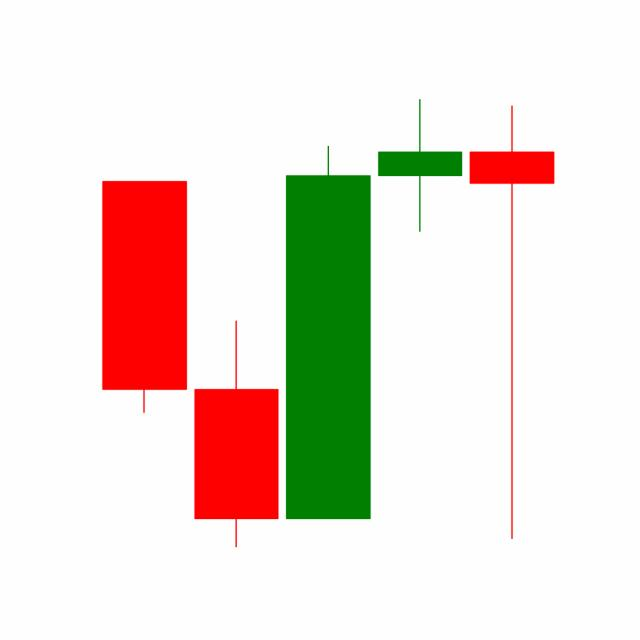Spinning Top: (373, 97, 467, 233)
